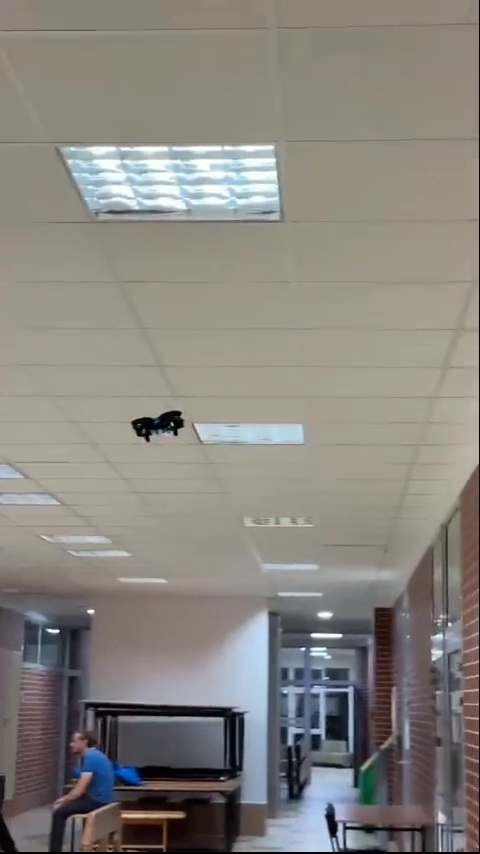drone: (129, 411, 185, 442)
no vest: (48, 728, 116, 817)
